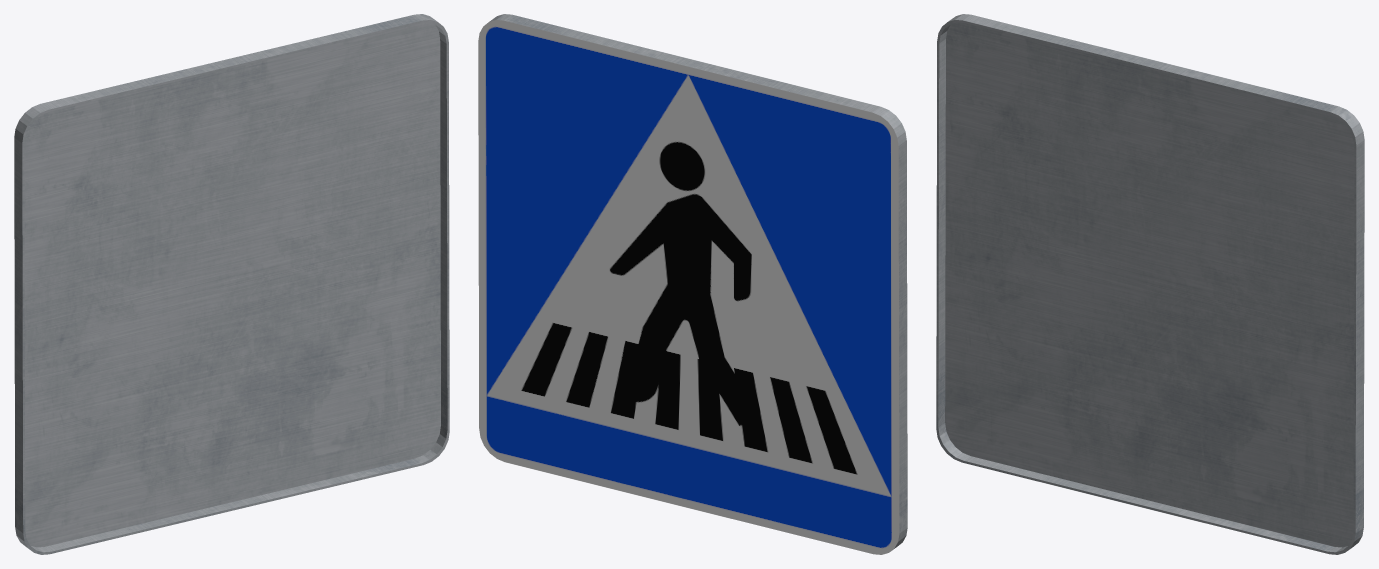
Rendered from Crosswalk.fbx.
3 renders of one model, left to right at view 1: azimuth 30°, elevation 25°; view 2: azimuth 150°, elevation 25°; view 3: azimuth 330°, elevation 25°, orthographic.
Parts seen in each view (by area): view 1: Crosswalk; view 2: Crosswalk; view 3: Crosswalk.
Boxes of the visible parts, x1,y1,x2,y2 form: Crosswalk: [14, 14, 449, 554]; Crosswalk: [478, 14, 907, 554]; Crosswalk: [936, 14, 1364, 554].
Bounding box in the file's own units: 0.0281 × 0.6002 × 0.6001.
